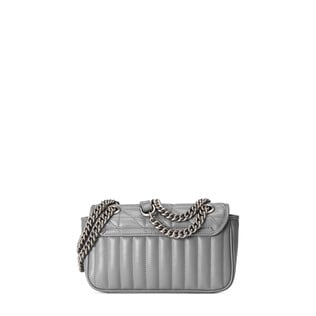Gucci: (66, 194, 241, 295)
